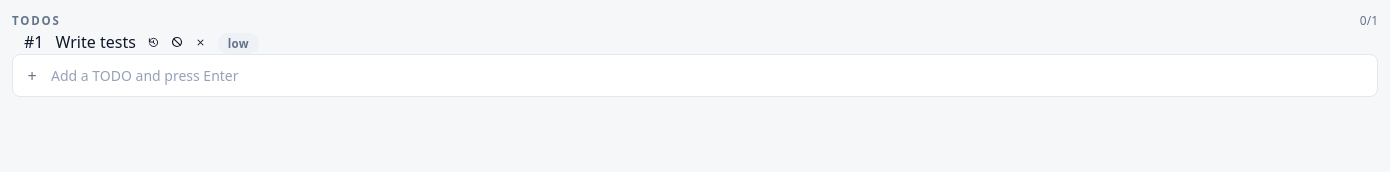
Test case: journal sections against real HTTP errors (#232) › edit failures (HTTP 500): typed text is kept or the original restored › todo edit: shows the error and re-opens the editor with the typed title
Double-click the button "Write tests": (96, 42) [56,30,136,54]
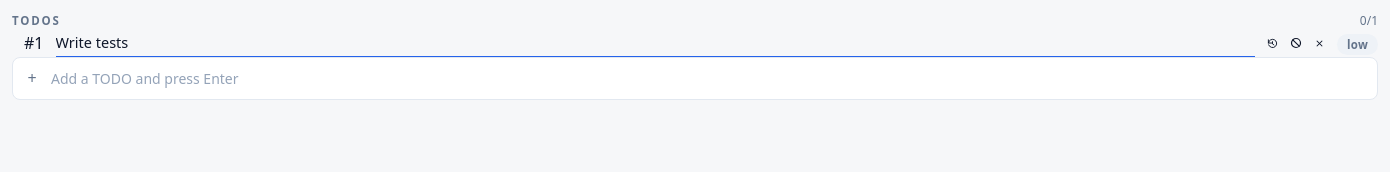
Replace the text in the field showing "Write tests" with "Write more tests": (655, 43) [56,30,1255,57]
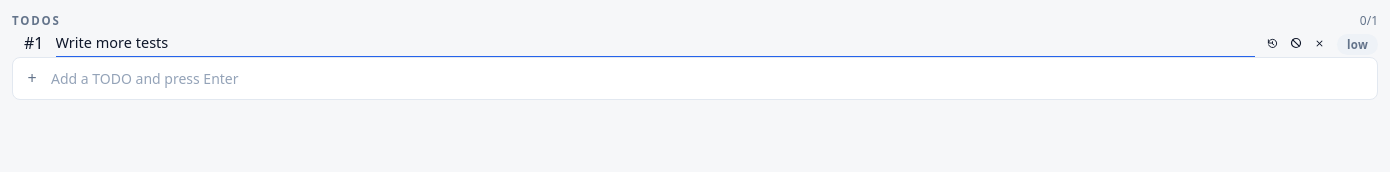
Press Enter in the field showing "Write tests", box [56,30,1255,57]
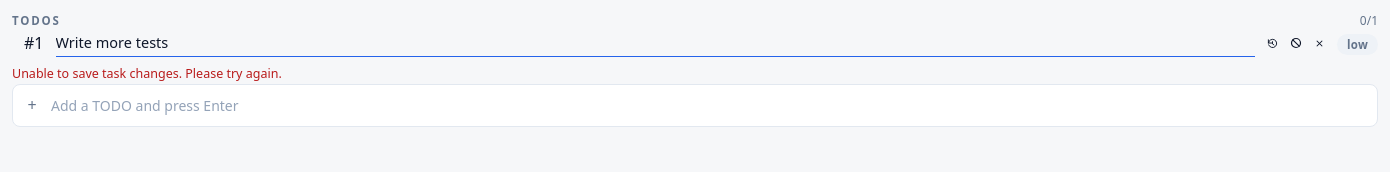
Expected: the field showing "Write more tests" is shown, [56,30,1255,57]
Expected: the message shows "Unable to save task changes", [12,65,282,82]
